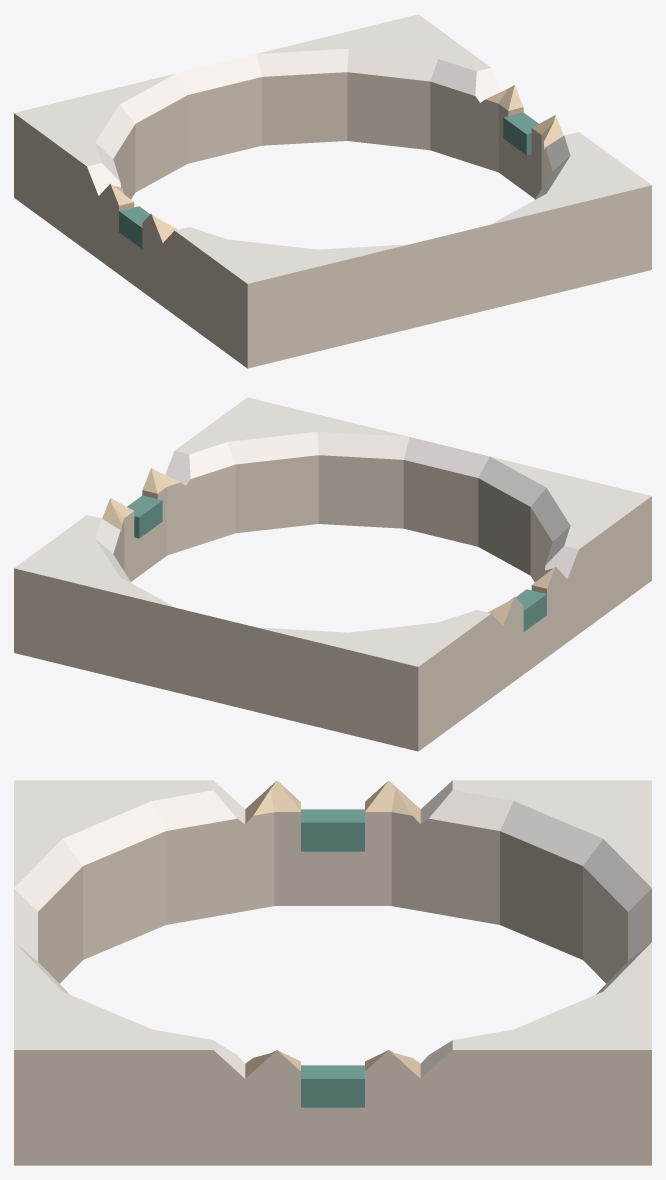
Rendered from Puzzle_Floor_Conduit_Rotating_Housing_Straight.glb.
3 renders of one model, top to bottom at view 1: azimuth 30°, elevation 25°; view 2: azimuth 150°, elevation 25°; view 3: azimuth 270°, elevation 25°, orthographic. The views are drawn at different scales.
Parts seen in each view (by area): view 1: Puzzle_Floor_Conduit_Rotating_Housing_Straight; view 2: Puzzle_Floor_Conduit_Rotating_Housing_Straight; view 3: Puzzle_Floor_Conduit_Rotating_Housing_Straight.
Boxes of the visible parts, x1,y1,x2,y2 form: Puzzle_Floor_Conduit_Rotating_Housing_Straight: (14,14,651,368); Puzzle_Floor_Conduit_Rotating_Housing_Straight: (14,397,651,751); Puzzle_Floor_Conduit_Rotating_Housing_Straight: (14,780,651,1165).
Bounding box in the file's own units: 1 × 0.2 × 1.
